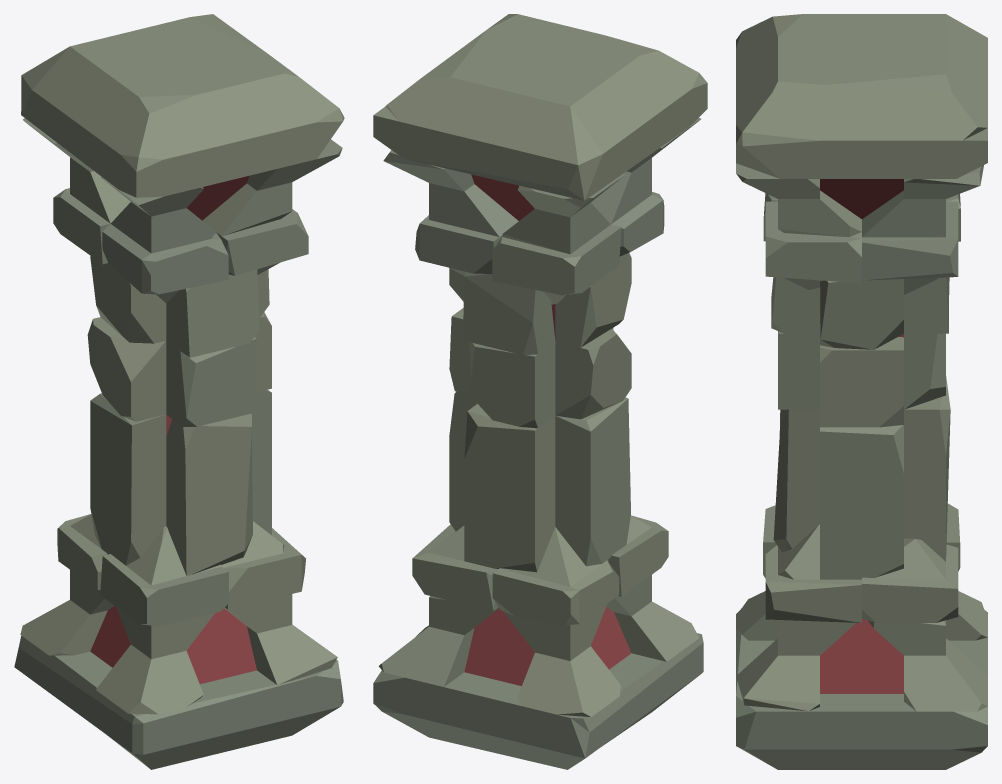
Rendered from pillar_large_short.fbx.
The picture shows the model from 3 angles, left to right: view 1: azimuth 30°, elevation 25°; view 2: azimuth 150°, elevation 25°; view 3: azimuth 270°, elevation 25°; orthographic projection. The views are drawn at different scales.
Parts seen in each view (by area): view 1: pillar_large_short; view 2: pillar_large_short; view 3: pillar_large_short.
Part boxes in pixels (<box>): pillar_large_short: <box>14,14,344,769</box>; pillar_large_short: <box>373,14,707,769</box>; pillar_large_short: <box>736,14,987,769</box>.
Size of the model in its own units: 150 by 450 by 150.
